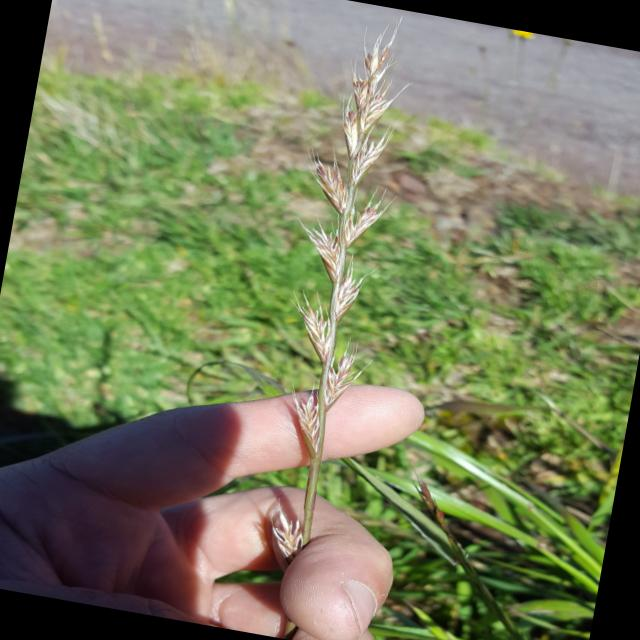Lolium: (231, 4, 433, 574)
